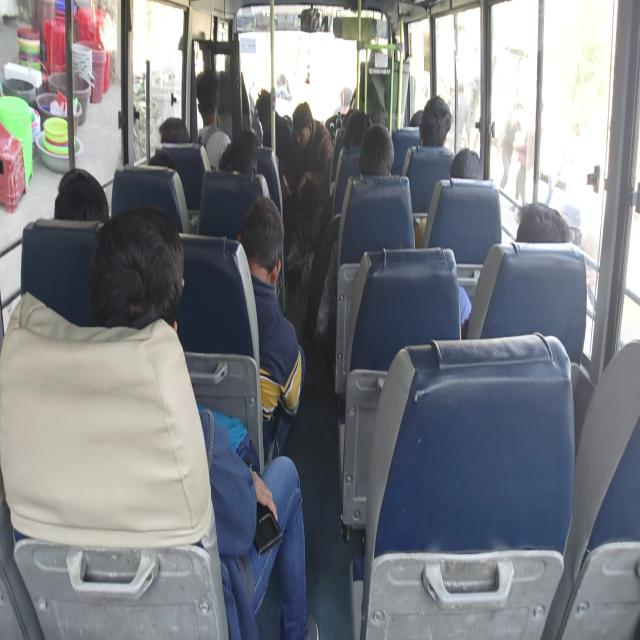person: (242, 208, 304, 292), (111, 244, 165, 320), (54, 165, 114, 230), (528, 205, 572, 265), (422, 108, 457, 154), (219, 148, 263, 182), (448, 154, 492, 186), (160, 109, 192, 150), (367, 131, 392, 176), (366, 34, 390, 79), (191, 77, 222, 110), (345, 111, 372, 146), (232, 126, 263, 156), (254, 89, 276, 128), (294, 108, 313, 144)
